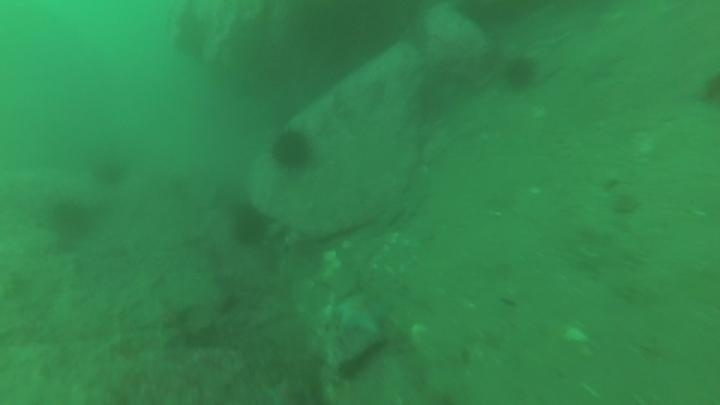echinus: (46, 196, 95, 244), (268, 127, 316, 174), (227, 201, 272, 249), (501, 53, 540, 93), (89, 154, 130, 187)
starfish: (333, 290, 392, 337)
